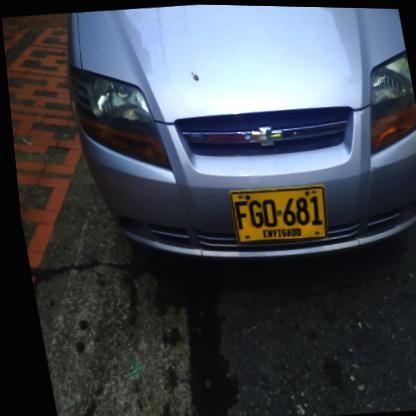placa: (218, 172, 332, 249)
